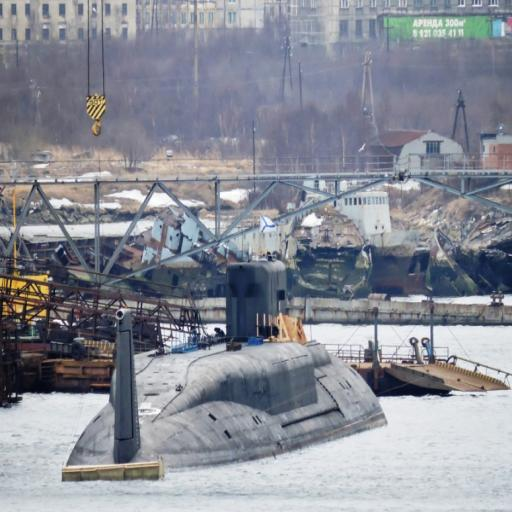submarine: (65, 256, 388, 472)
